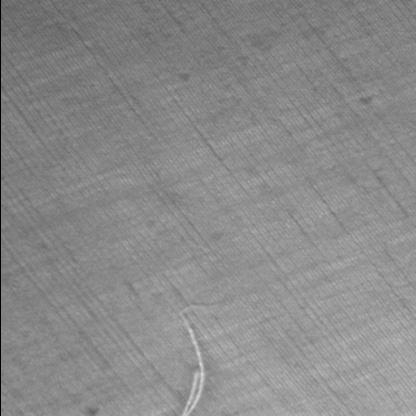objects: (165, 301, 227, 415)
